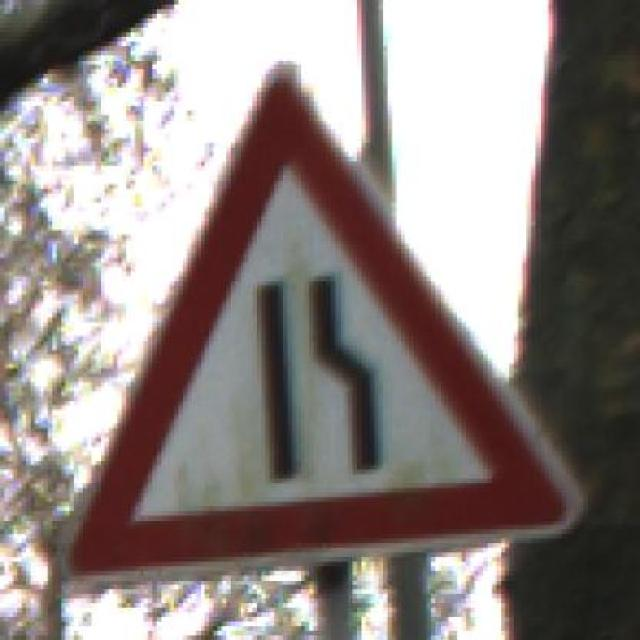-Road narrows on right: (43, 56, 597, 598)
